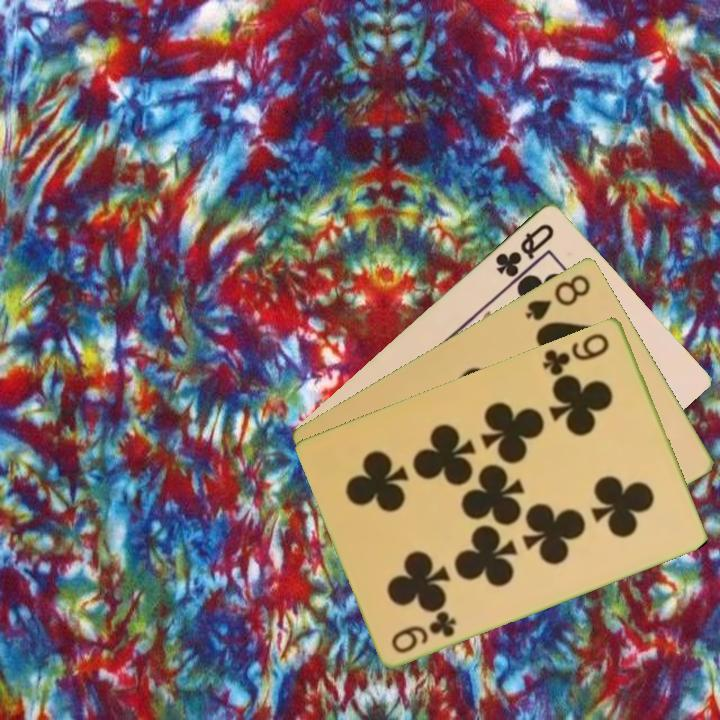8s: (522, 270, 594, 324)
9c: (538, 329, 612, 379), (388, 607, 460, 656)
Qc: (491, 219, 557, 280)
